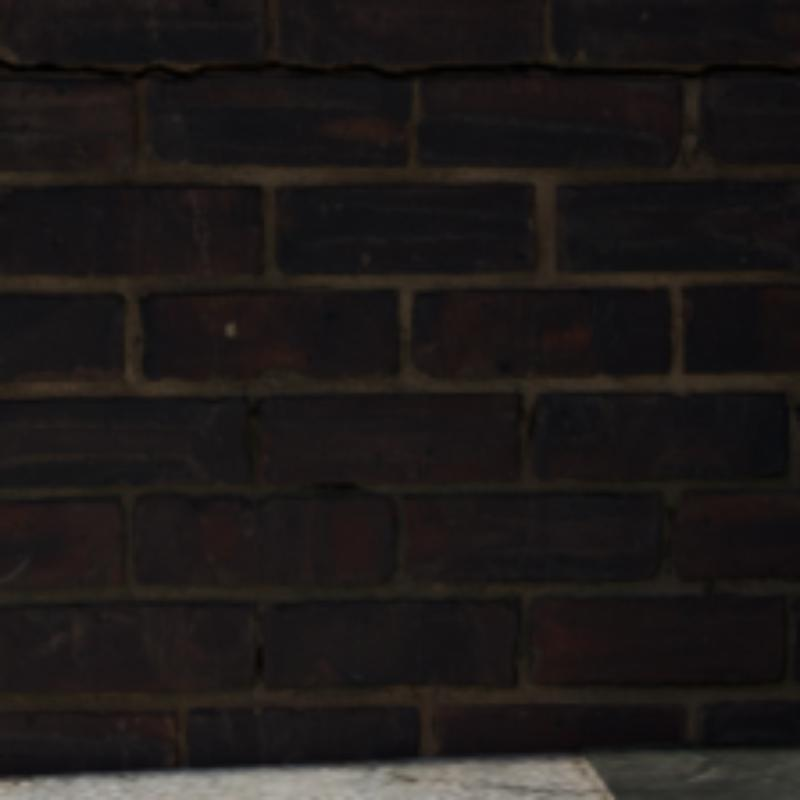crack: (0, 57, 796, 75)
